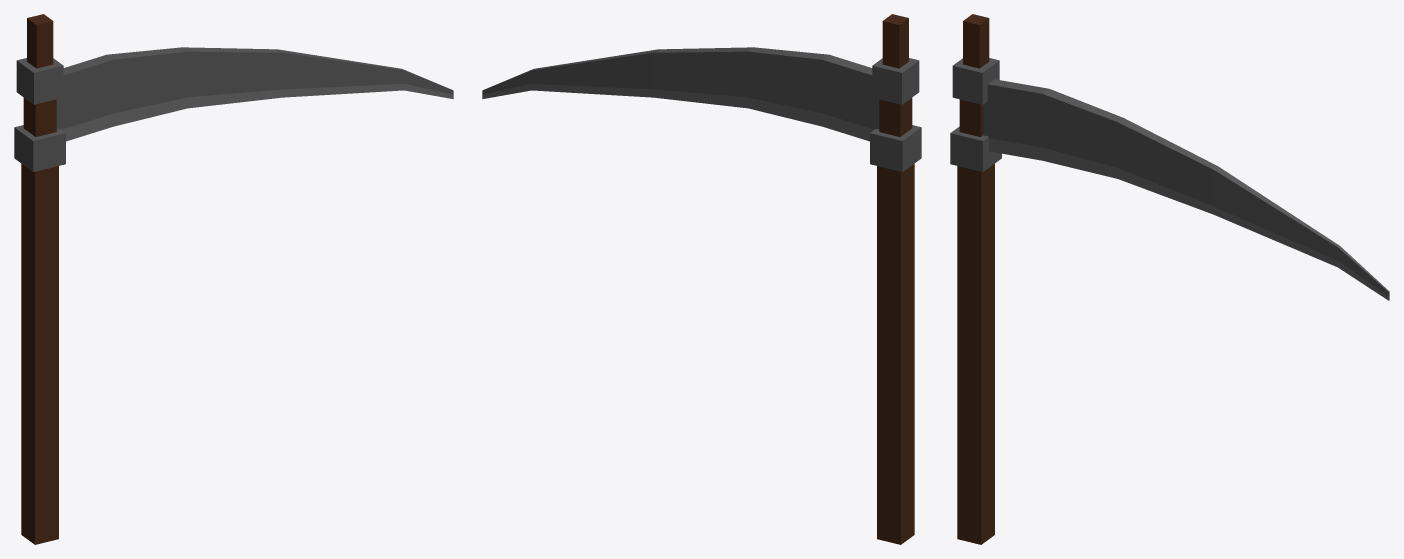
The model's file is hell_trap_1.fbx.
The picture shows the model from 3 angles, left to right: view 1: azimuth 30°, elevation 25°; view 2: azimuth 150°, elevation 25°; view 3: azimuth 330°, elevation 25°; orthographic projection.
Visible parts, largest first — view 1: hell_trap_1; view 2: hell_trap_1; view 3: hell_trap_1.
Part boxes in pixels (x1,y1,x2,y2): hell_trap_1: (14, 14, 453, 544); hell_trap_1: (482, 14, 921, 544); hell_trap_1: (950, 14, 1389, 544).
Size of the model in its own units: 7.14 by 0.5451 by 8.23.
